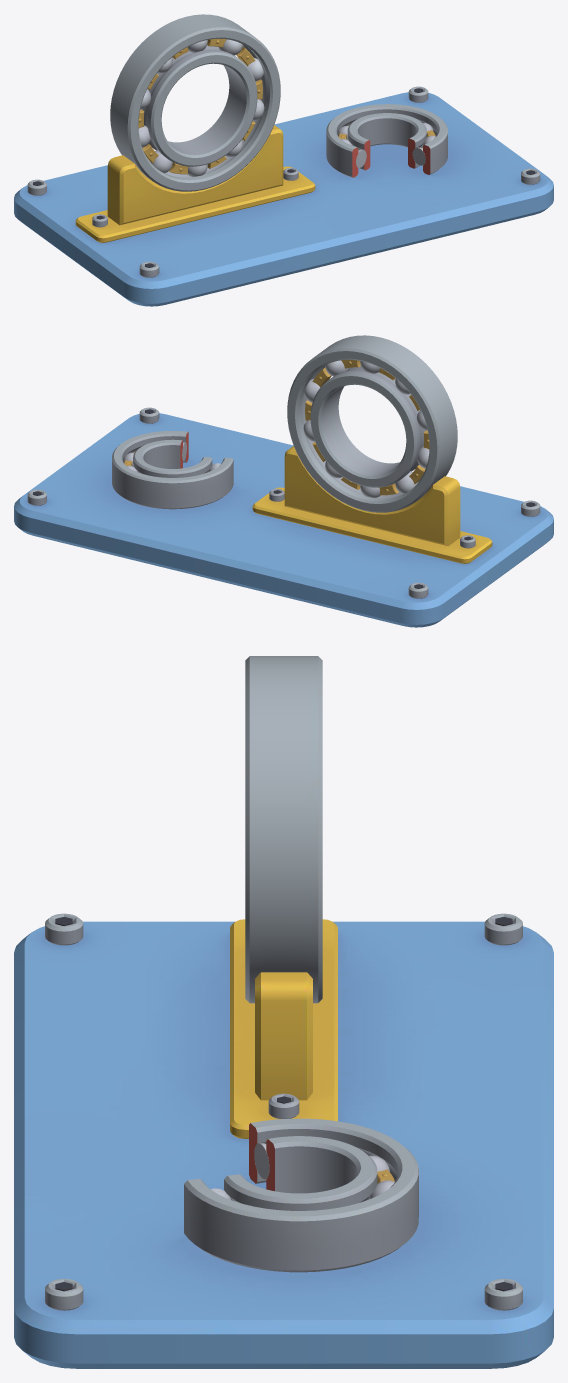
Rendered from ball-bearing.obj.
3 renders of one model, top to bottom at view 1: azimuth 30°, elevation 25°; view 2: azimuth 150°, elevation 25°; view 3: azimuth 270°, elevation 25°, orthographic. The views are drawn at different scales.
Parts seen in each view (by area): view 1: ball-bearing_body, ball-bearing_rotor; view 2: ball-bearing_body, ball-bearing_rotor; view 3: ball-bearing_body.
Part boxes in pixels (<box>): ball-bearing_body: <box>14,14,553,306</box>; ball-bearing_rotor: <box>138,38,264,177</box>; ball-bearing_body: <box>14,335,553,627</box>; ball-bearing_rotor: <box>303,359,429,498</box>; ball-bearing_body: <box>14,656,553,1368</box>.
Size of the model in its own units: 0.25 by 0.118 by 0.14.
